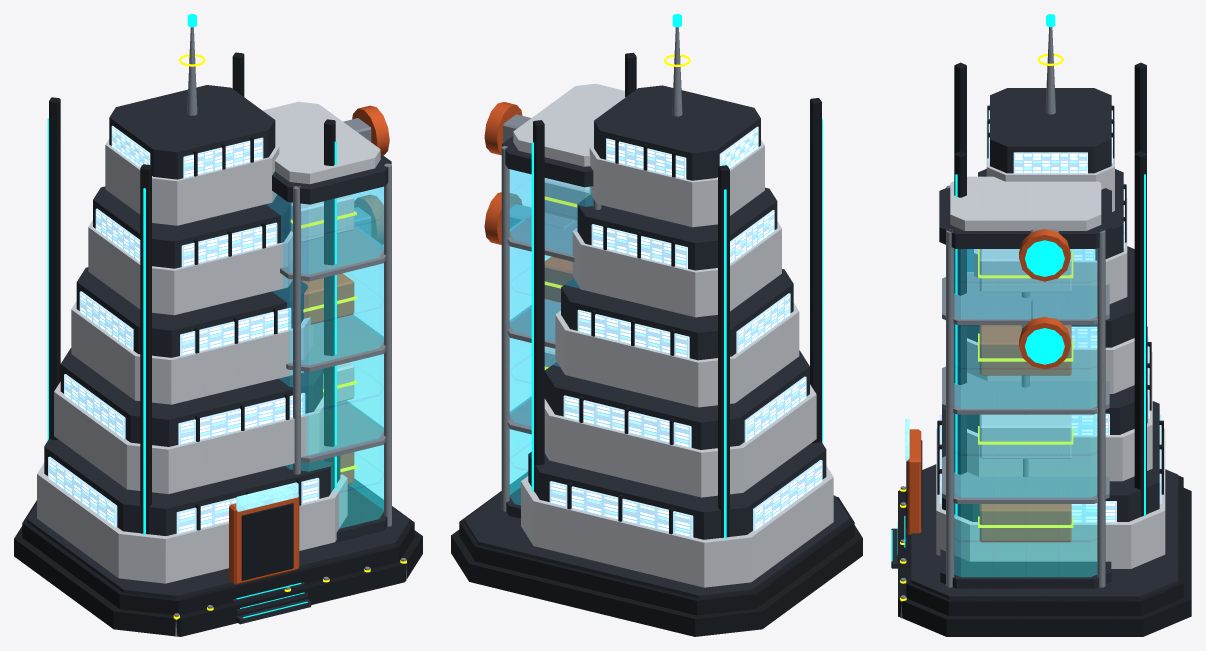
Rendered from bldg_14_r1_04.glb.
3 views of the same model, side by side, from view 1: azimuth 30°, elevation 25°; view 2: azimuth 150°, elevation 25°; view 3: azimuth 270°, elevation 25° (orthographic). The views are drawn at different scales.
Visible parts, largest first — view 1: Bldg14_C04_aero_white, Bldg14_C04_carbon_slate, Bldg14_C04_gunmetal, Bldg14_C04_glass_cyan, Bldg14_C04_window_lit, Bldg14_C04_steel_machined, Bldg14_C04_accent_orange, Bldg14_C04_led_cyan, Bldg14_C04_marquee, Bldg14_C04_led_amber; view 2: Bldg14_C04_aero_white, Bldg14_C04_carbon_slate, Bldg14_C04_gunmetal, Bldg14_C04_window_lit, Bldg14_C04_glass_cyan, Bldg14_C04_steel_machined, Bldg14_C04_accent_orange, Bldg14_C04_led_cyan; view 3: Bldg14_C04_glass_cyan, Bldg14_C04_aero_white, Bldg14_C04_carbon_slate, Bldg14_C04_gunmetal, Bldg14_C04_steel_machined, Bldg14_C04_accent_orange, Bldg14_C04_window_lit, Bldg14_C04_led_cyan, Bldg14_C04_led_amber.
Boxes of the visible parts, left/top/right/bottom form: Bldg14_C04_aero_white: left=37, top=101, right=380, bottom=583; Bldg14_C04_carbon_slate: left=27, top=85, right=409, bottom=624; Bldg14_C04_gunmetal: left=14, top=52, right=422, bottom=636; Bldg14_C04_glass_cyan: left=266, top=186, right=383, bottom=528; Bldg14_C04_window_lit: left=48, top=125, right=319, bottom=534; Bldg14_C04_steel_machined: left=174, top=27, right=406, bottom=636; Bldg14_C04_accent_orange: left=229, top=105, right=389, bottom=584; Bldg14_C04_led_cyan: left=47, top=14, right=336, bottom=618; Bldg14_C04_marquee: left=236, top=482, right=298, bottom=511; Bldg14_C04_led_amber: left=173, top=54, right=406, bottom=619; Bldg14_C04_aero_white: left=513, top=83, right=833, bottom=587; Bldg14_C04_carbon_slate: left=464, top=85, right=849, bottom=598; Bldg14_C04_gunmetal: left=451, top=52, right=862, bottom=636; Bldg14_C04_window_lit: left=549, top=126, right=822, bottom=537; Bldg14_C04_glass_cyan: left=509, top=169, right=592, bottom=505; Bldg14_C04_steel_machined: left=501, top=27, right=682, bottom=511; Bldg14_C04_accent_orange: left=484, top=102, right=573, bottom=302; Bldg14_C04_led_cyan: left=531, top=14, right=822, bottom=538; Bldg14_C04_glass_cyan: left=954, top=249, right=1096, bottom=576; Bldg14_C04_aero_white: left=936, top=121, right=1165, bottom=568; Bldg14_C04_carbon_slate: left=891, top=88, right=1178, bottom=599; Bldg14_C04_gunmetal: left=898, top=62, right=1191, bottom=636; Bldg14_C04_steel_machined: left=900, top=27, right=1109, bottom=618; Bldg14_C04_accent_orange: left=907, top=229, right=1071, bottom=542; Bldg14_C04_window_lit: left=939, top=104, right=1161, bottom=523; Bldg14_C04_led_cyan: left=891, top=14, right=1145, bottom=561; Bldg14_C04_led_amber: left=900, top=53, right=1073, bottom=601.
Size of the model in its own units: 12.19 by 20.12 by 10.23.
10 materials, 10 textured.
